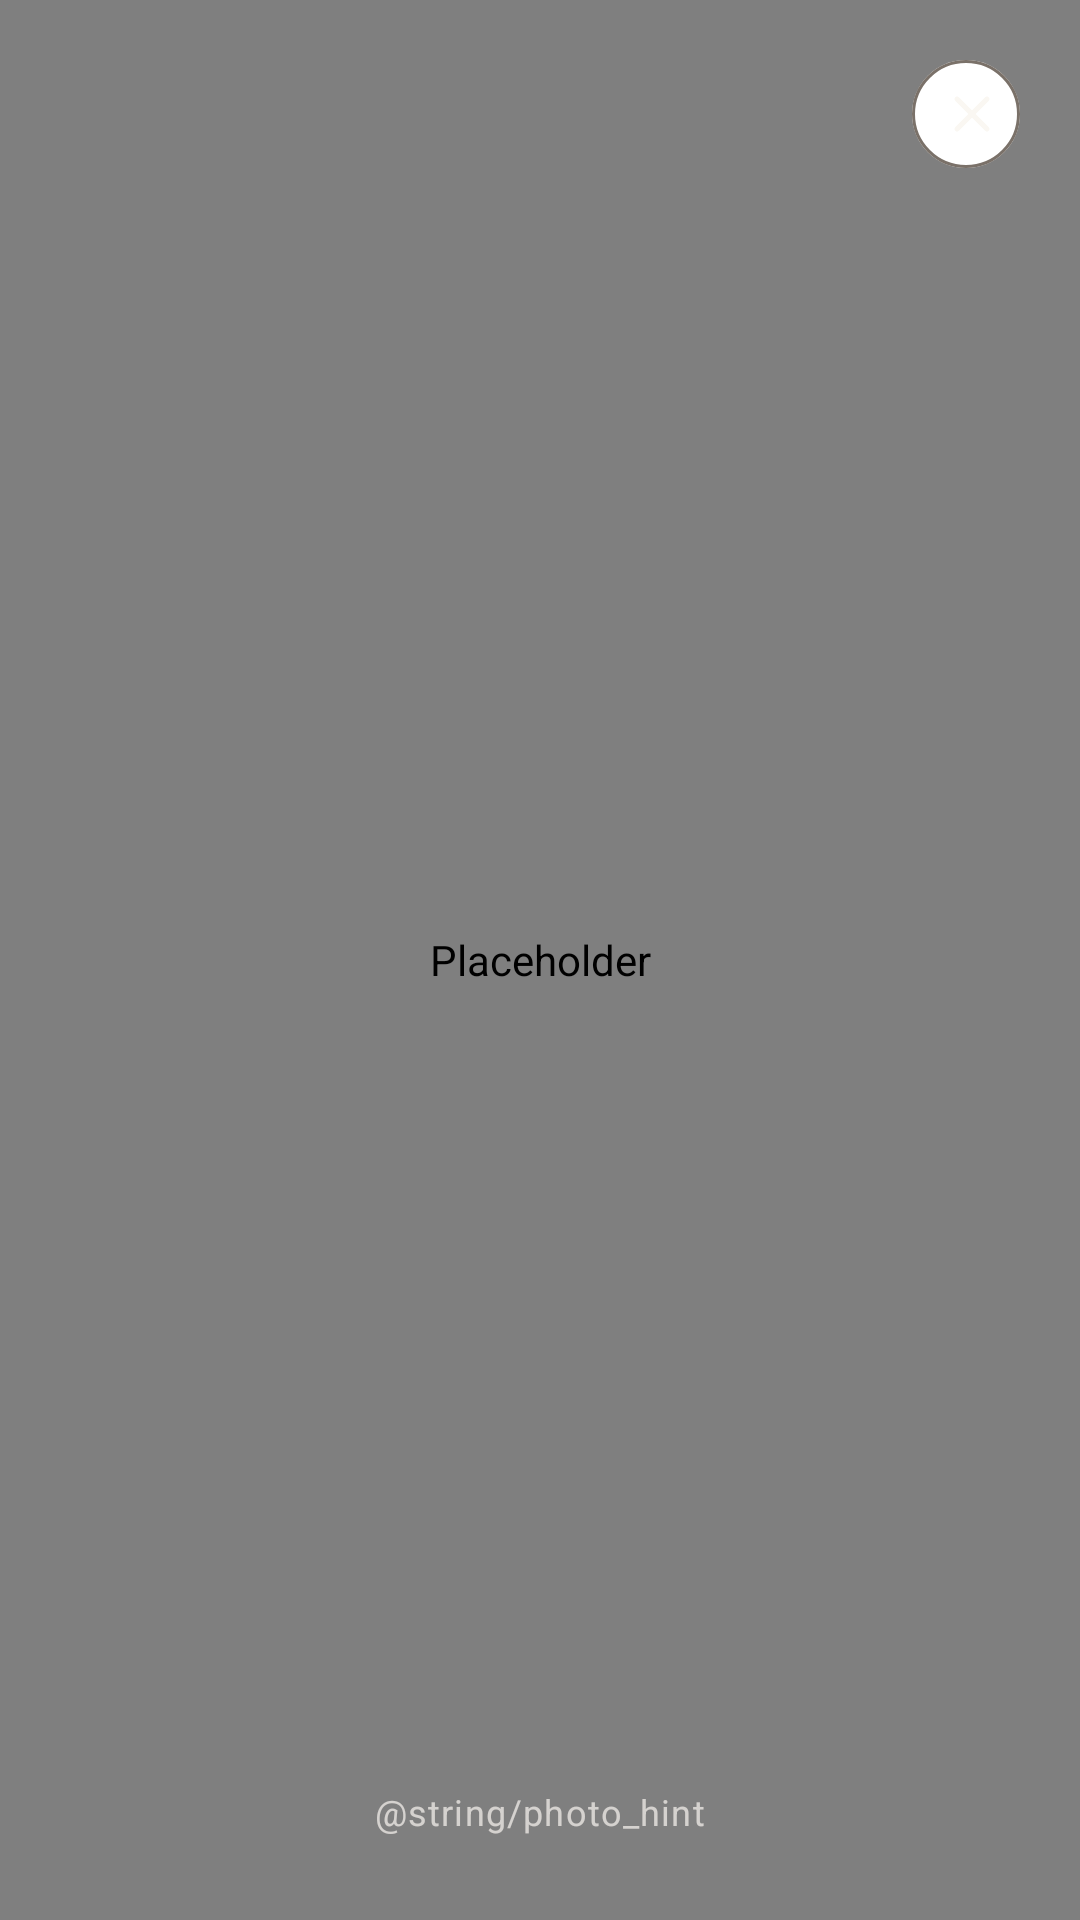

Icon click points for this 1080×1920 phone screenshot, format (x,y):
close: (966,114)
